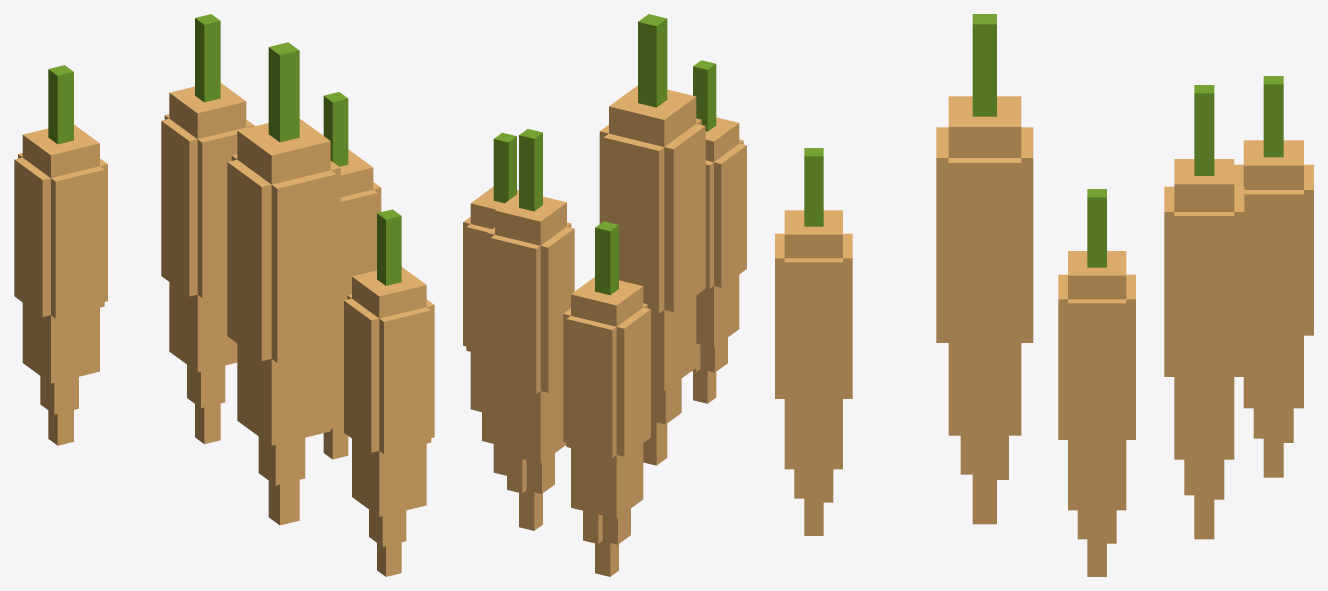
File: carrots.gltf
3 renders of one model, left to right at view 1: azimuth 30°, elevation 25°; view 2: azimuth 150°, elevation 25°; view 3: azimuth 270°, elevation 25°, orthographic. The views are drawn at different scales.
Visible parts, largest first — view 1: Box_4, Box_1, Box_5, Box_17, Box_15, Box_35, Box_42, Box_44, Box_32, Box_14, Box_33, Box_41 (+19 smaller); view 2: Box_3, Box_36, Box_35, Box_5, Box_1, Box_17, Box_18, Box_14, Box_32, Box_41, Box_44, Box_27 (+23 smaller); view 3: Box_2, Box_1, Box_34, Box_16, Box_25, Box_43, Box_35, Box_17, Box_44, Box_26, Box_4, Box_3 (+24 smaller).
Part boxes in pixels (x1,y1,x2,y2): Box_4: (271,170,336,362); Box_1: (237,119,330,445); Box_5: (227,159,271,360); Box_17: (22,124,99,383); Box_15: (51,166,104,318); Box_35: (169,83,246,372); Box_42: (379,307,431,453); Box_44: (352,267,426,516); Box_32: (161,118,197,296); Box_14: (14,157,50,316); Box_33: (197,127,246,297); Box_41: (344,298,379,452); Box_3: (603,133,664,313); Box_36: (490,235,540,393); Box_35: (495,193,566,463); Box_5: (664,123,705,311); Box_1: (609,85,696,390); Box_17: (571,277,643,518); Box_18: (566,316,616,457); Box_14: (616,307,650,456); Box_32: (540,226,574,392); Box_41: (714,143,746,287); Box_44: (696,117,739,347); Box_27: (466,224,491,355); Box_2: (948,158,1021,348); Box_1: (948,96,1021,435); Box_34: (1174,212,1234,381); Box_16: (1244,190,1303,339); Box_25: (1068,299,1126,443); Box_43: (784,258,842,402); Box_35: (1174,159,1234,459); Box_17: (1243,140,1303,408); Box_44: (784,210,842,469); Box_26: (1068,251,1126,510); Box_4: (936,127,948,342); Box_3: (1021,127,1033,342).
Bounding box in the file's own units: 48.61 × 85.66 × 83.32.
